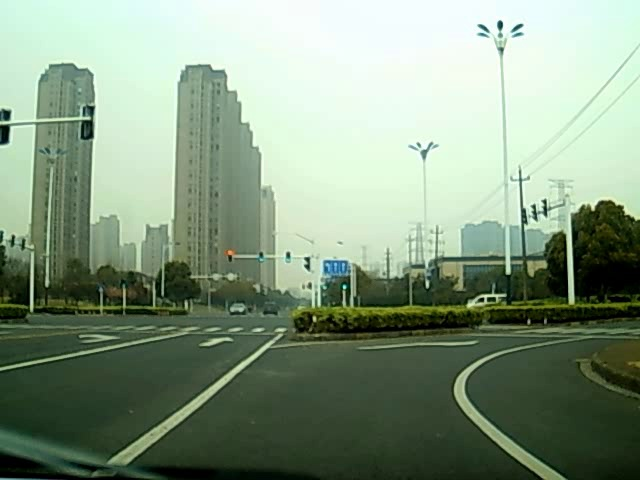Traffic_Light_go: (258, 251, 265, 263), (339, 280, 347, 290), (284, 252, 290, 263)
Traffic_Light_stop: (225, 248, 233, 263)
